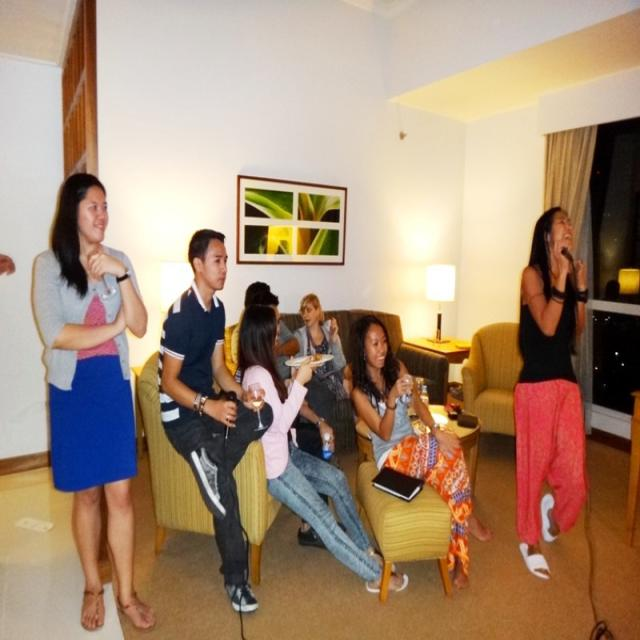body: (28, 167, 159, 632), (236, 304, 410, 594), (155, 226, 276, 616), (348, 311, 494, 591), (511, 202, 592, 584), (244, 303, 350, 550), (243, 288, 336, 466), (291, 290, 355, 404), (273, 291, 299, 387), (0, 246, 19, 283)
